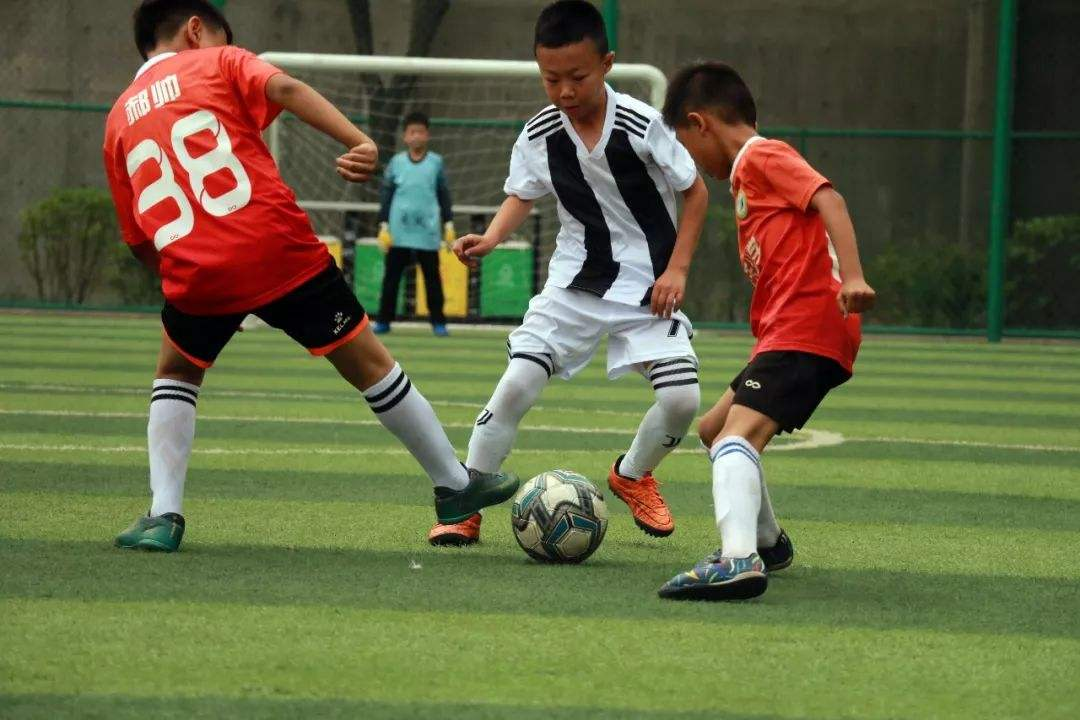football: (511, 468, 613, 565)
